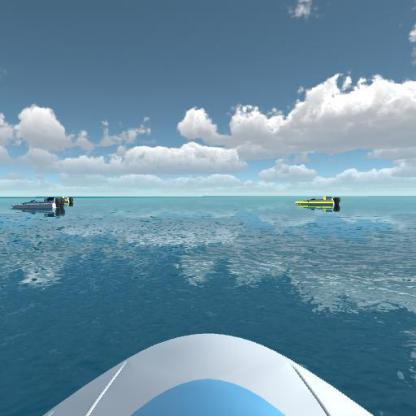usv1: (8, 194, 66, 218)
usv2: (291, 192, 341, 215), (47, 192, 77, 208)
